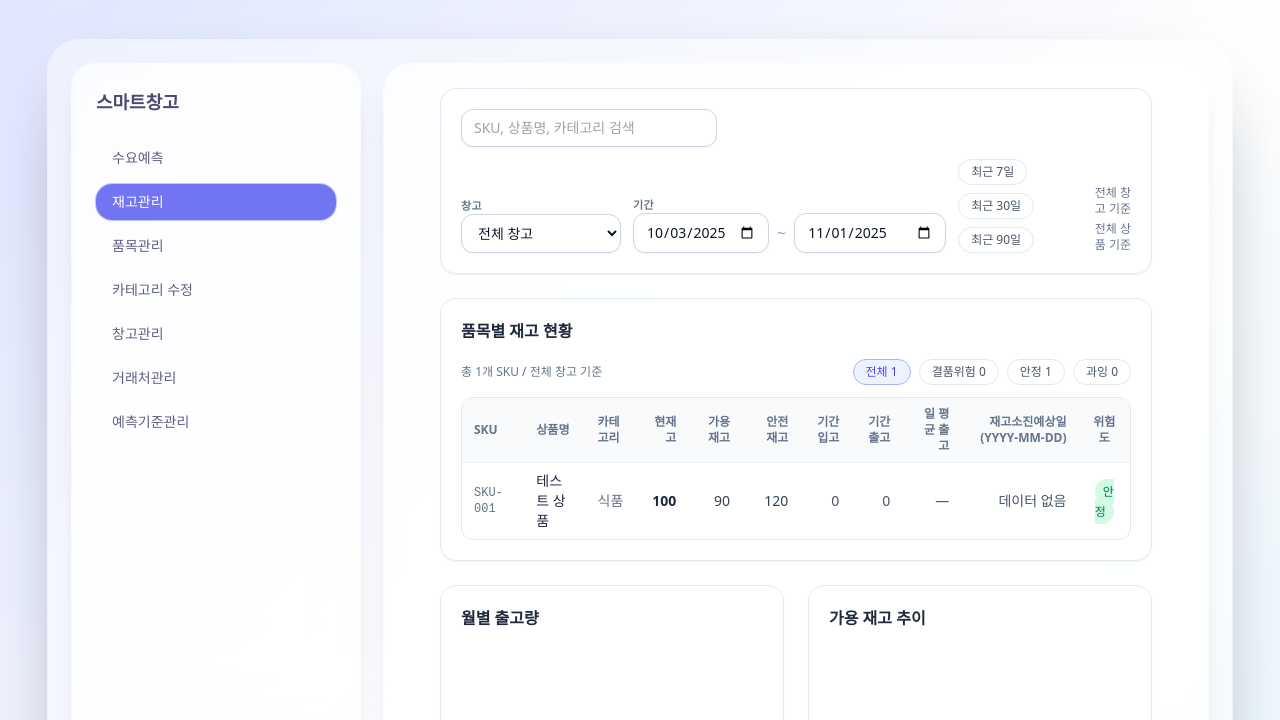
Test: DeepflowDashboard partner management › edits a supplier from the management panel
Click the button "거래처관리" at x=216, y=378, box left=96, top=360, right=336, bottom=396
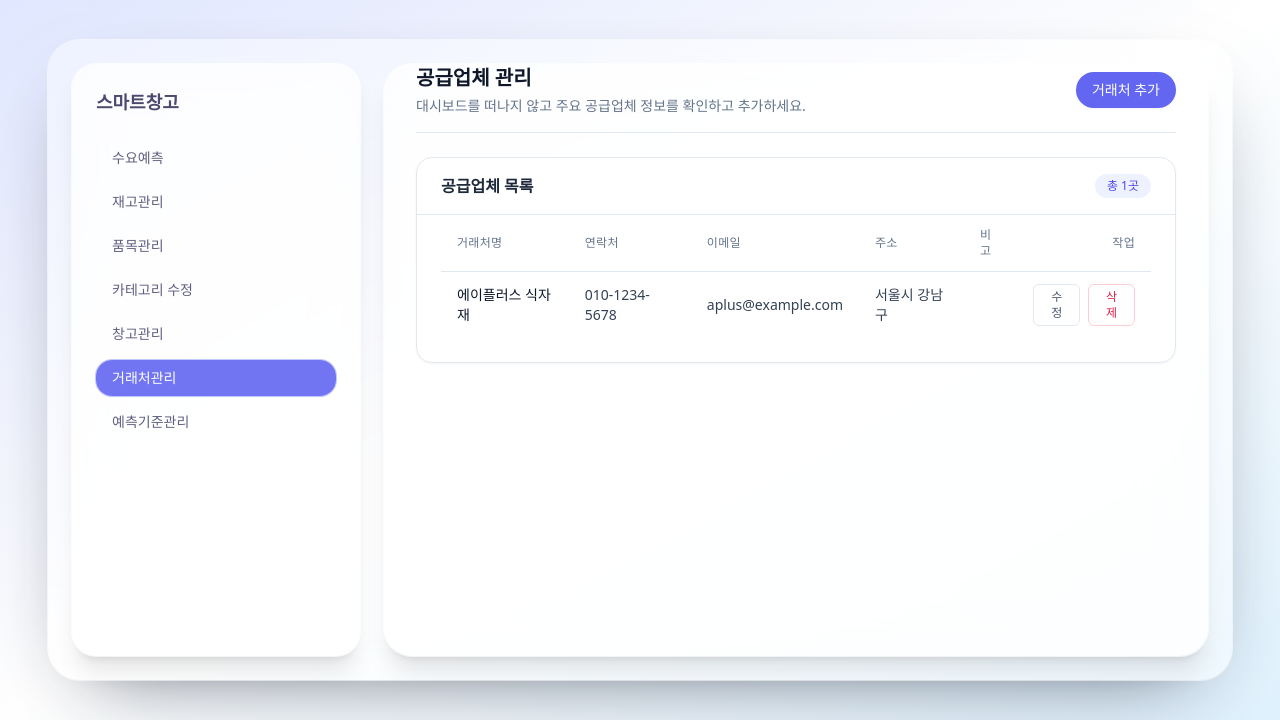
Now the button "수정" is shown
Click the button "수정" at x=1057, y=305, box left=1033, top=284, right=1080, bottom=326
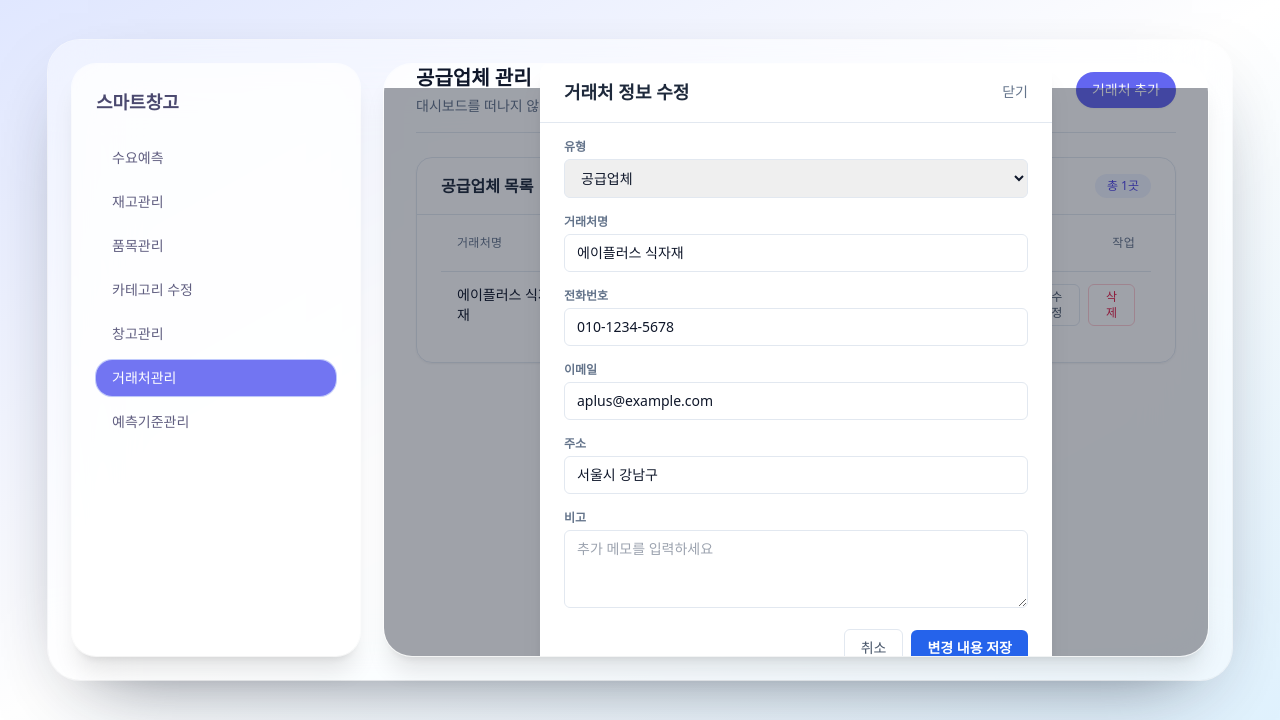
Now the heading "거래처 정보 수정" is shown, box left=564, top=78, right=689, bottom=106
Now the field labelled "거래처명" holds "에이플러스 식자재"
Replace the text in the field labelled "거래처명" with "에이플러스 식자재 (수정)" at x=796, y=252, box left=564, top=234, right=1028, bottom=272
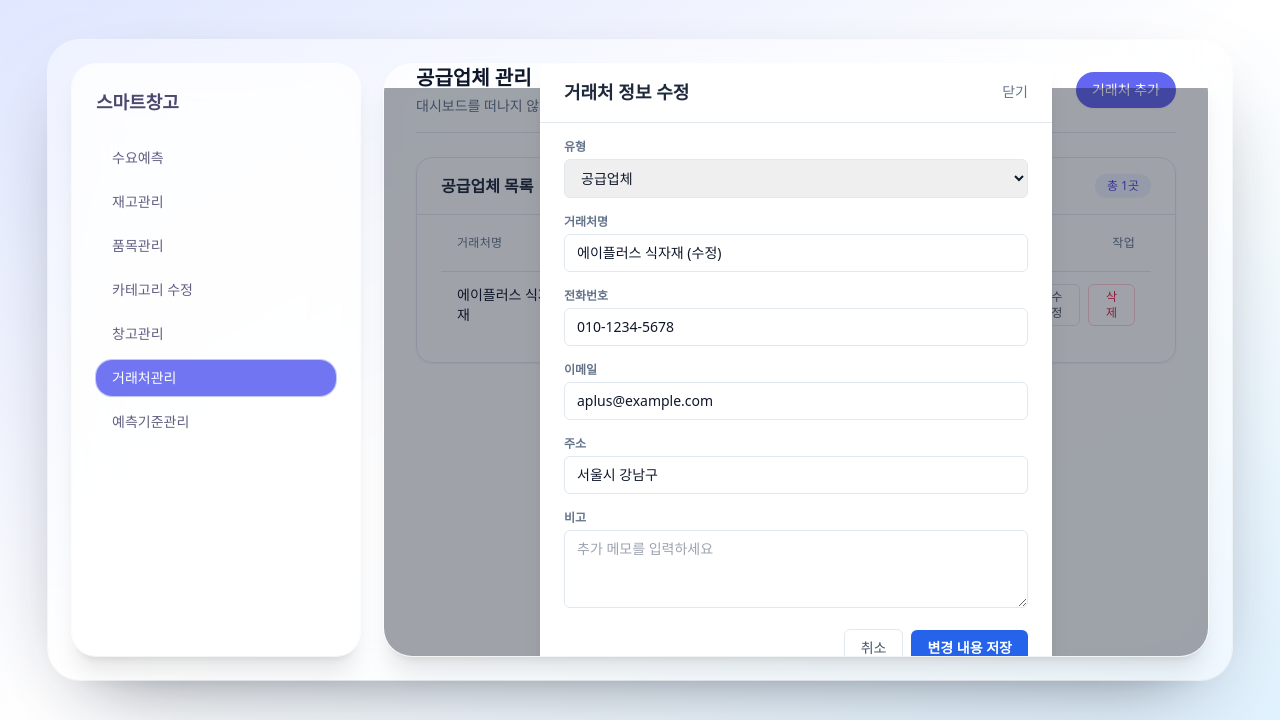
Click the button "변경 내용 저장" at x=970, y=648, box left=911, top=630, right=1028, bottom=666
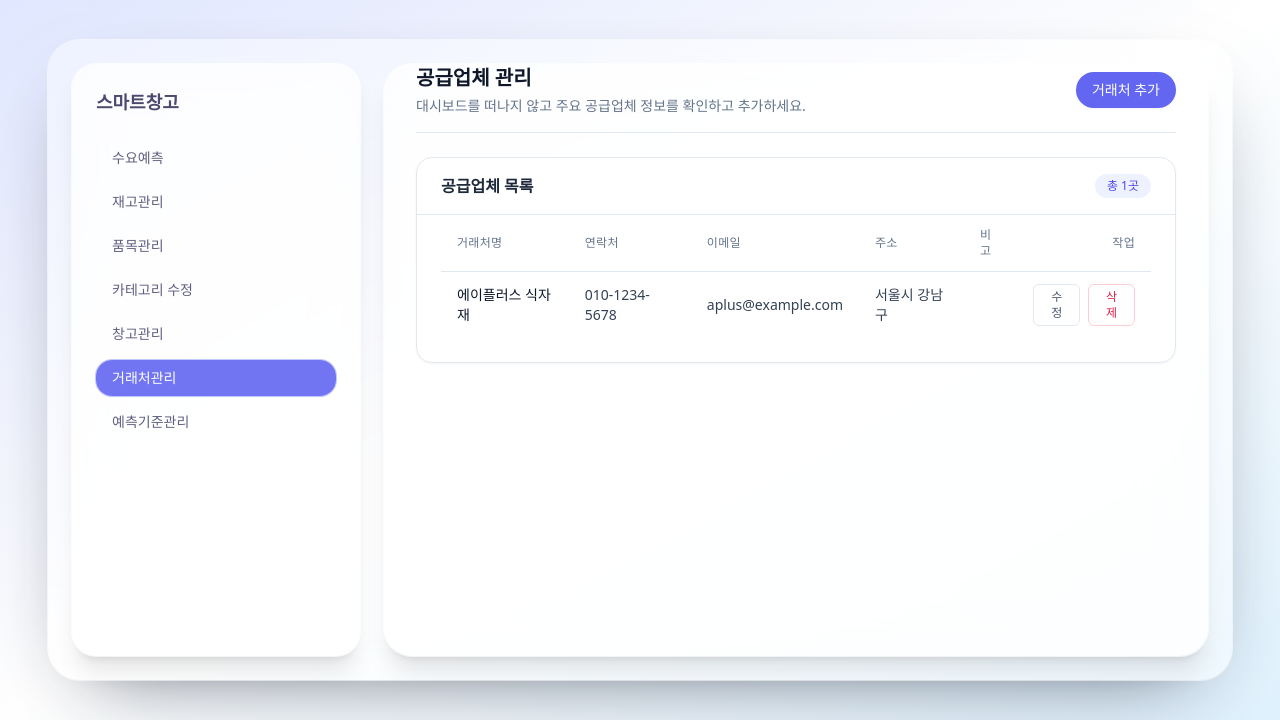
Now the heading "거래처 정보 수정" is gone
